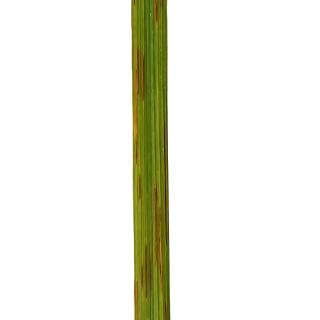Bercak-Cokelat-Sempit: (131, 40, 153, 170), (138, 242, 152, 308), (155, 184, 163, 294), (148, 0, 166, 38), (134, 172, 146, 210)
